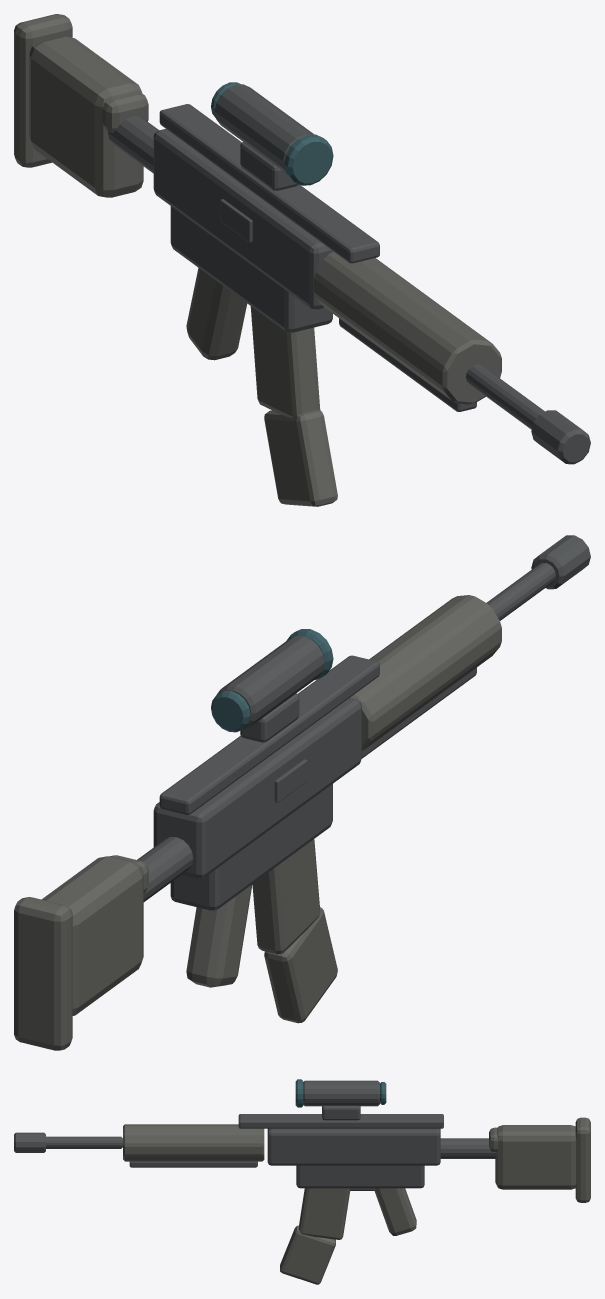
Rendered from rifle.glb.
The picture shows the model from 3 angles, top to bottom: view 1: azimuth 30°, elevation 25°; view 2: azimuth 150°, elevation 25°; view 3: azimuth 270°, elevation 25°; orthographic projection. The views are drawn at different scales.
Visible parts, largest first — view 1: Rifle; view 2: Rifle; view 3: Rifle.
Boxes of the visible parts, x1,y1,x2,y2 form: Rifle: (14,14,590,506); Rifle: (14,535,590,1050); Rifle: (14,1079,590,1284).
Bounding box in the file's own units: 0.0571 × 0.3472 × 0.899.
